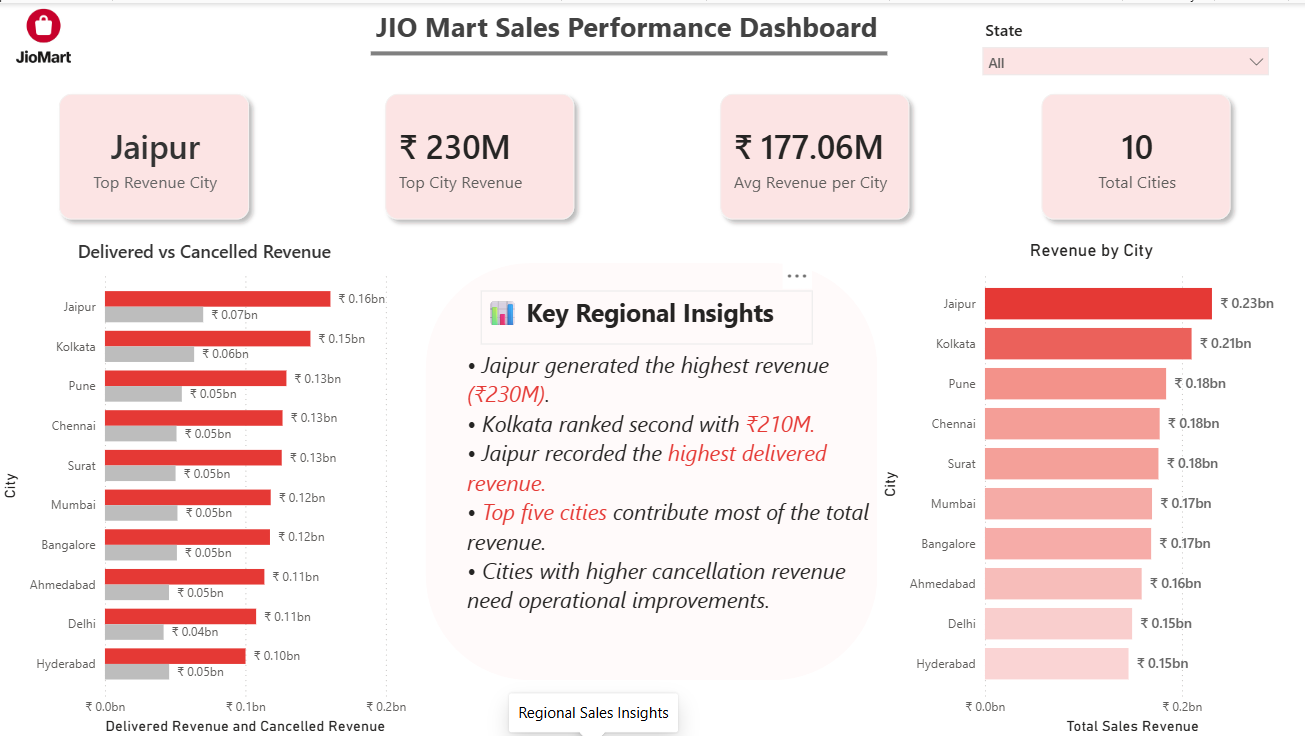

The page's visual inventory and layout, read from the dashboard file:
{"tool":"powerbi","page":{"name":"Regional Sales Insights","canvas":[1280,720],"ordinal":2},"visuals":[{"type":"cardVisual","fields":{"Data":["Table.Top Revenue City"]},"box":[32.4,59.6,244.9,181.4],"z":0},{"type":"cardVisual","fields":{"Data":["Table.Top City Revenue"]},"box":[351.2,59.6,243.6,181.4],"z":1000},{"type":"cardVisual","fields":{"Data":["Table.Total Cities"]},"box":[992.6,59.6,243.6,181.4],"z":2000},{"type":"cardVisual","fields":{"Data":["Table.Avg Revenue per City"]},"box":[679,59.6,243.6,181.4],"z":3000},{"type":"textbox","box":[365.4,0,654.4,59.6],"z":4000},{"type":"shape","box":[365.4,10.4,505.4,79],"z":5000},{"type":"image","box":[0,0,91.7,67.3],"z":6000},{"type":"clusteredBarChart","title":"Revenue by City","fields":{"Y":["Table.Total Sales Revenue"],"Category":["Customers.City"]},"box":[860.4,230.7,419.8,489.8],"z":7000},{"type":"clusteredBarChart","title":"Delivered vs Cancelled Revenue","fields":{"Category":["Customers.City"],"Y":["Table.Delivered Revenue","Table.Cancellation_Revenue"]},"box":[0,230.7,405.6,489.8],"z":8000},{"type":"slicer","fields":{"Values":["Customers.State"]},"box":[953.7,10.4,300.6,67.4],"z":9000},{"type":"shape","box":[419.8,254,441.9,408.2],"z":10000},{"type":"textbox","box":[473,281.2,325.2,53.1],"z":11000},{"type":"textbox","box":[454.8,334.3,416,290.3],"z":12000}]}

Visuals, with their boxes in screenshot pixels (x1, y1, x2, y2), scaled from the page's 1280x720 canvas onto the 1305x736 screenshot:
cardVisual - Table.Top Revenue City: [33,61,283,246]
cardVisual - Table.Top City Revenue: [358,61,606,246]
cardVisual - Table.Total Cities: [1012,61,1260,246]
cardVisual - Table.Avg Revenue per City: [692,61,941,246]
textbox: [373,0,1040,61]
shape: [373,11,888,91]
image: [0,0,93,69]
"Revenue by City" clusteredBarChart: [877,236,1304,735]
"Delivered vs Cancelled Revenue" clusteredBarChart: [0,236,414,735]
slicer - Customers.State: [972,11,1279,80]
shape: [428,260,879,677]
textbox: [482,287,814,342]
textbox: [464,342,888,638]
